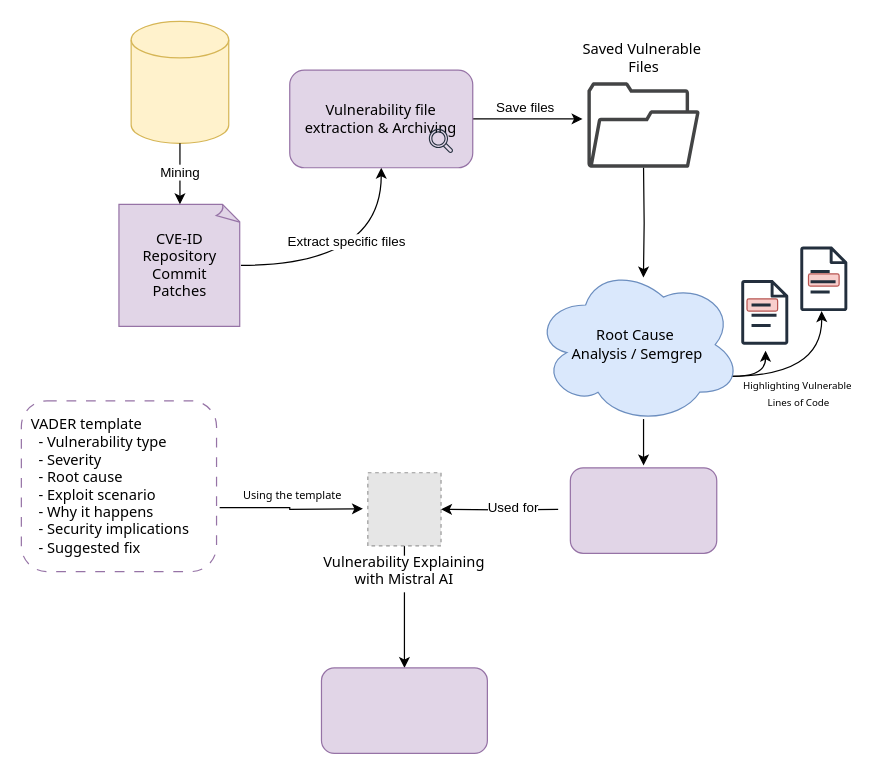
Some shapes in this 875 by 775 pixel diagram are drawn without their labels. Grey dashed boxes stand in for pictures. Each missing label, with the centre of its shape:
"Commit message Important patches Import lines of code" goes at point 643,510.
"NVD database" goes at point 179,81.
"Vulnerability Explanation based on VADER template per CVE" goes at point 403,710.
